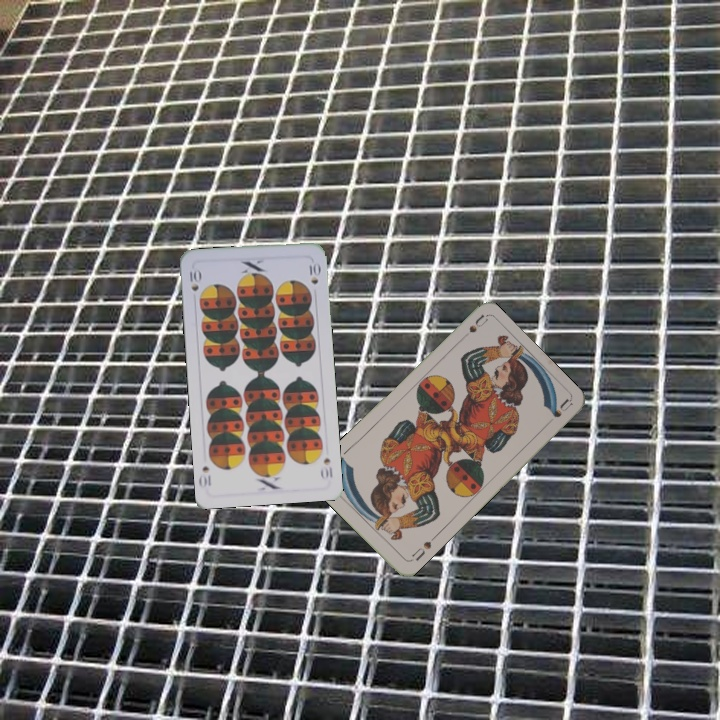S10: (185, 265, 203, 293), (317, 453, 335, 481)
SU: (455, 311, 490, 345), (406, 532, 438, 564)
